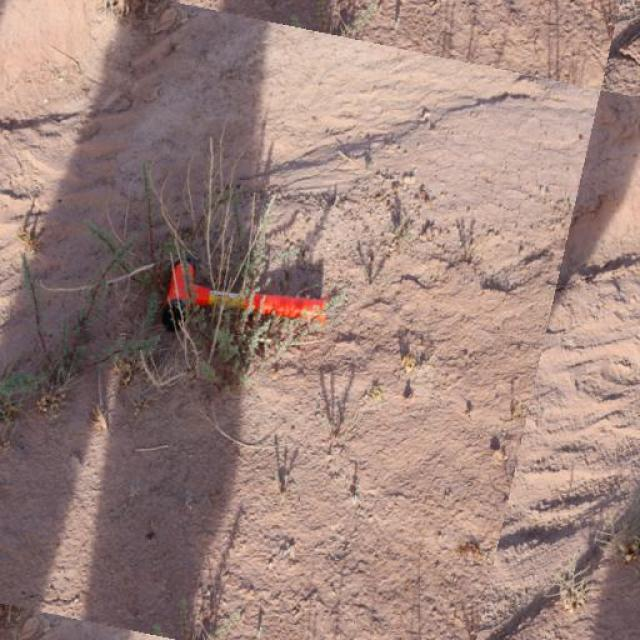mallet: (160, 256, 329, 332)
